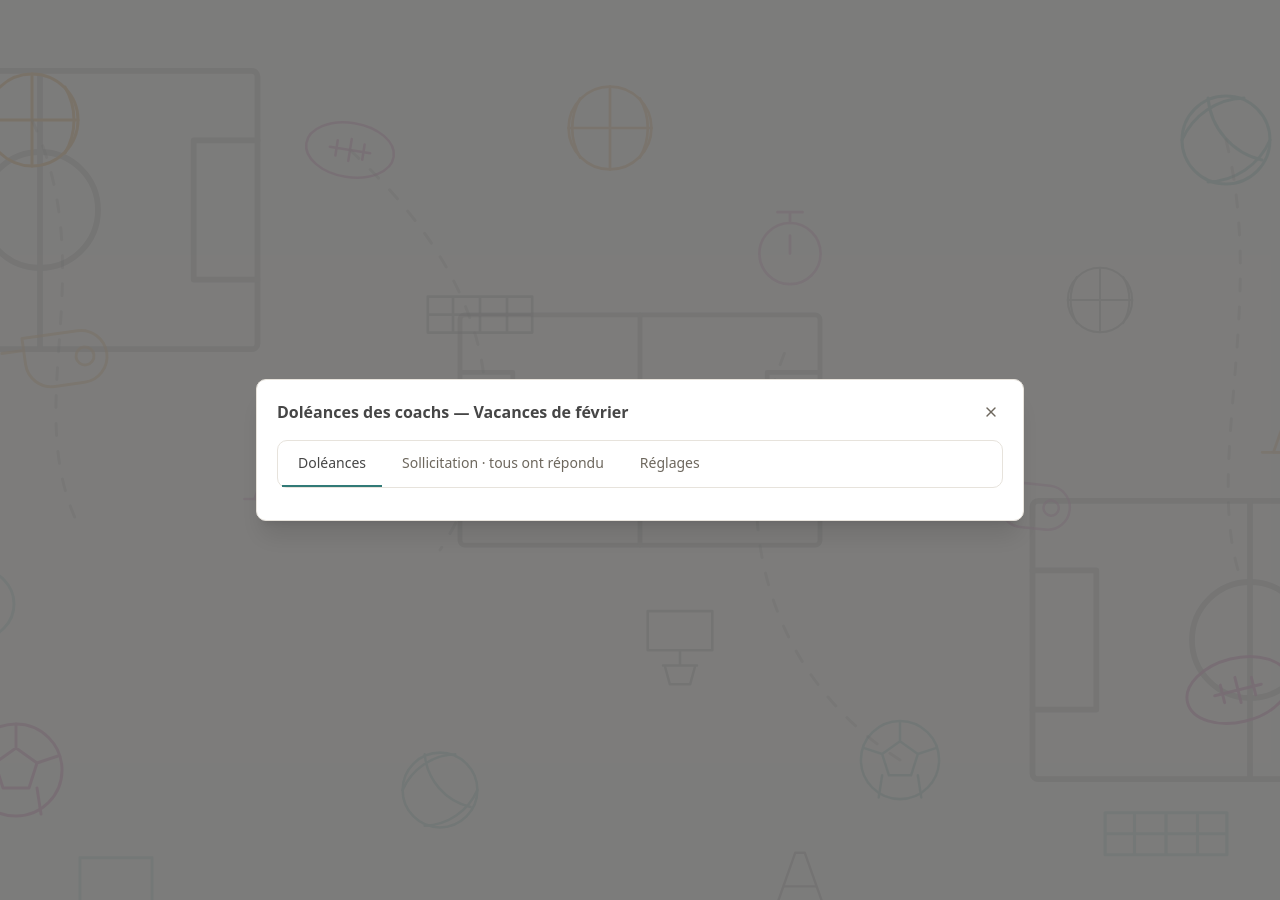
CoachWishesHub › rouvre une campagne existante sur sa propre sélection, pas sur « toutes »
Click the tab "Réglages".
click(670, 464)  # box 624,441 -> 716,487
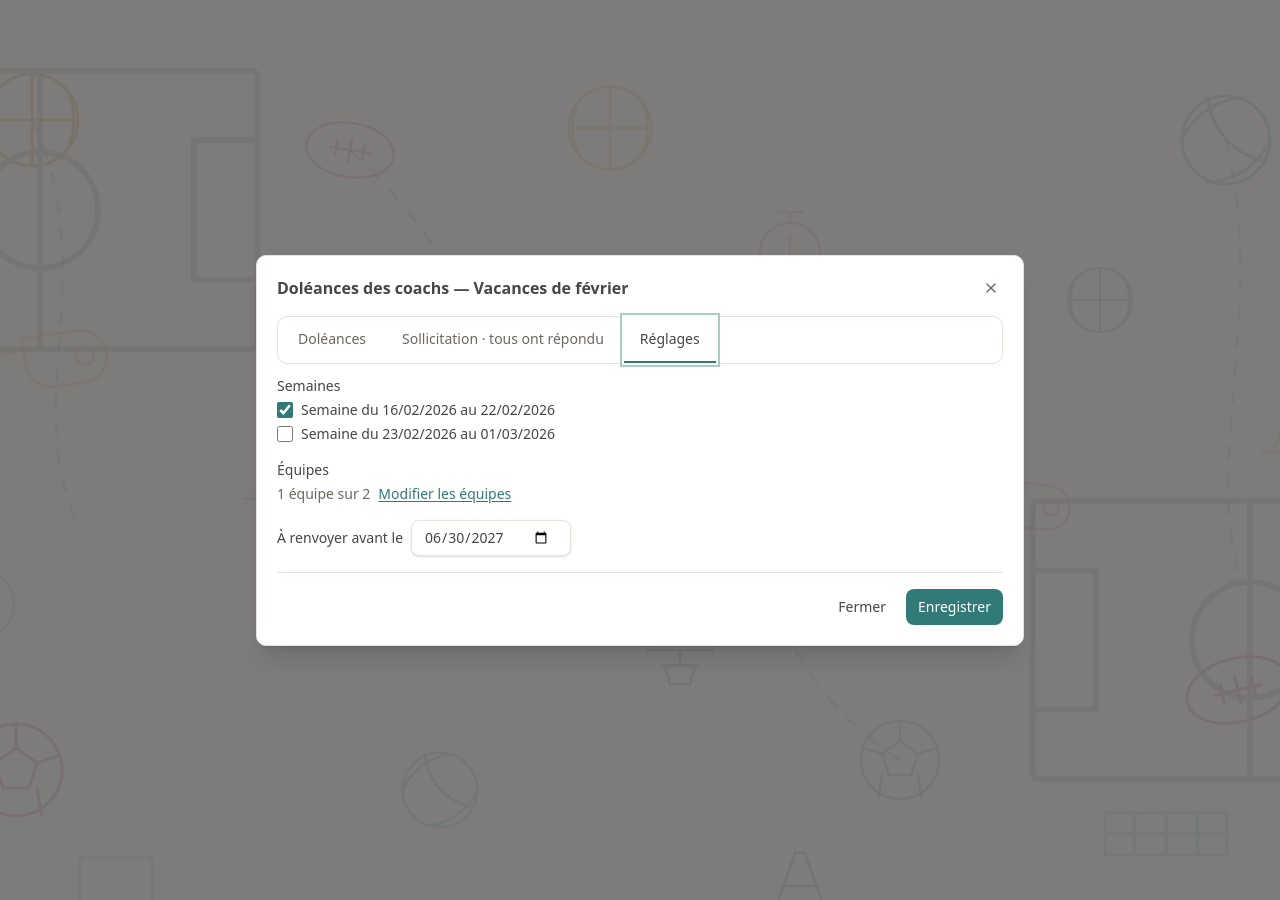
Expected: the text "1 équipe sur 2" is shown, 277,484 -> 370,504
